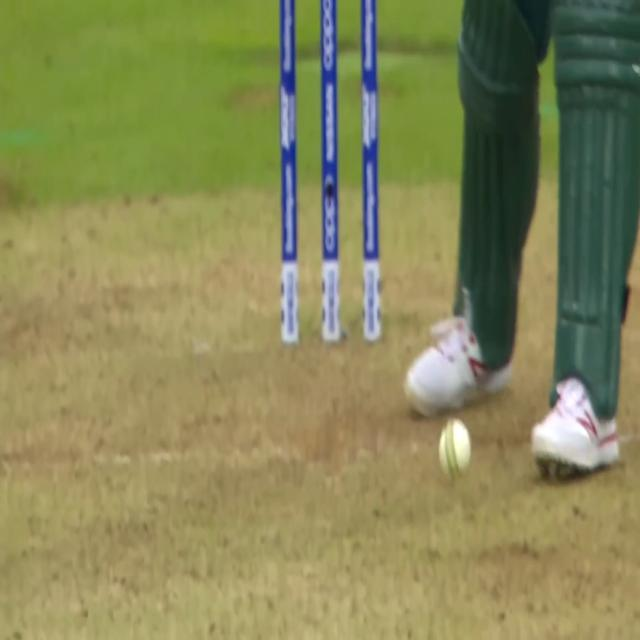ball: (436, 412, 474, 482)
